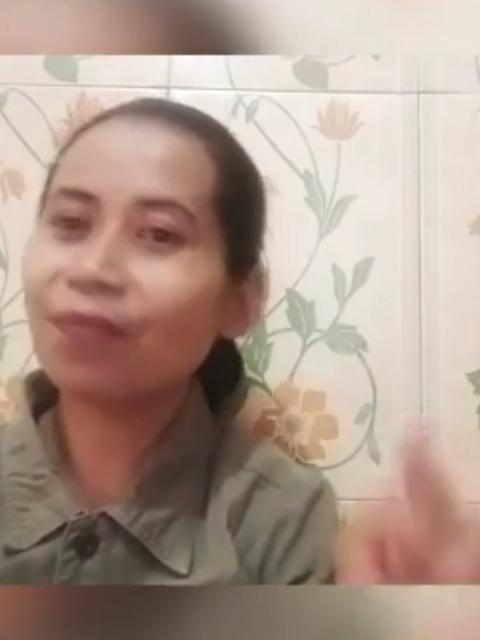Z: (318, 408, 480, 582)
